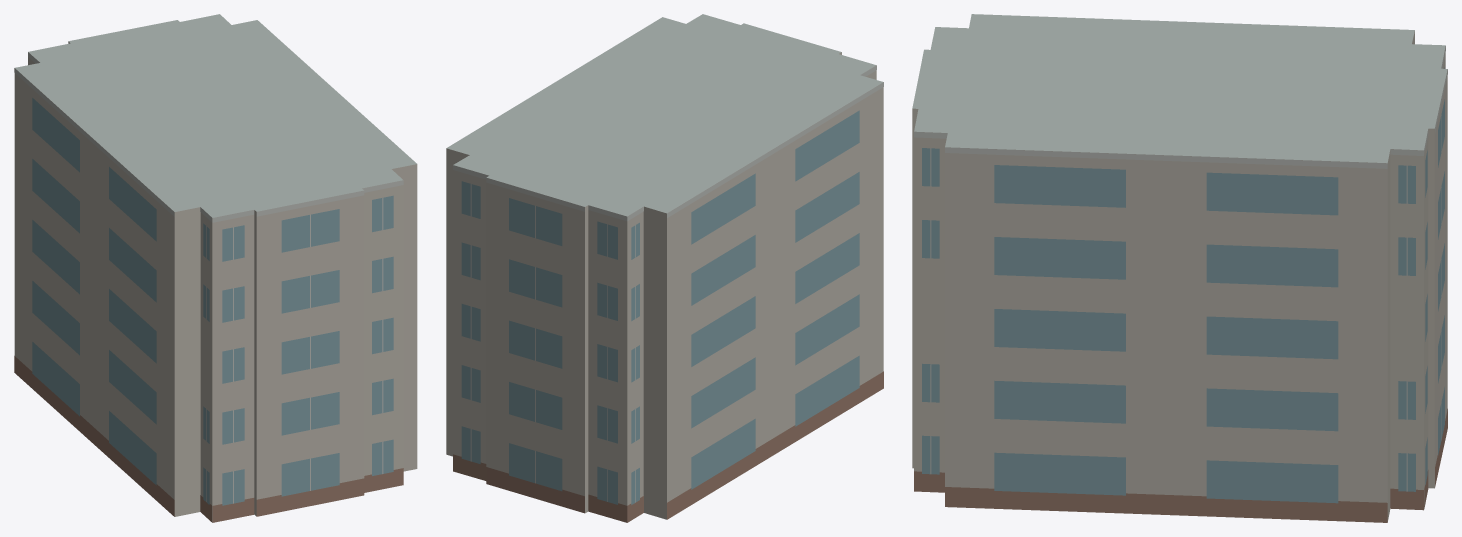
The model's file is survey-upis-32898781.glb.
3 views of the same model, side by side, from view 1: azimuth 30°, elevation 25°; view 2: azimuth 150°, elevation 25°; view 3: azimuth 270°, elevation 25° (orthographic). The views are drawn at different scales.
Visible parts, largest first — view 1: survey-upis-32898781.tmp; view 2: survey-upis-32898781.tmp; view 3: survey-upis-32898781.tmp.
Part boxes in pixels (bbox=[...]): survey-upis-32898781.tmp: bbox=[14, 14, 417, 522]; survey-upis-32898781.tmp: bbox=[446, 14, 883, 522]; survey-upis-32898781.tmp: bbox=[912, 14, 1447, 522].
Bounding box in the file's own units: 13.62 × 15.3 × 20.65.
